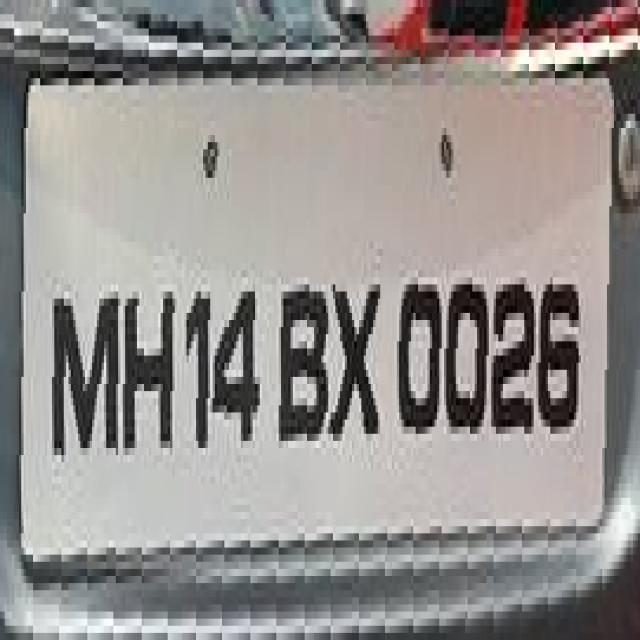license_plate: (0, 36, 619, 590)
